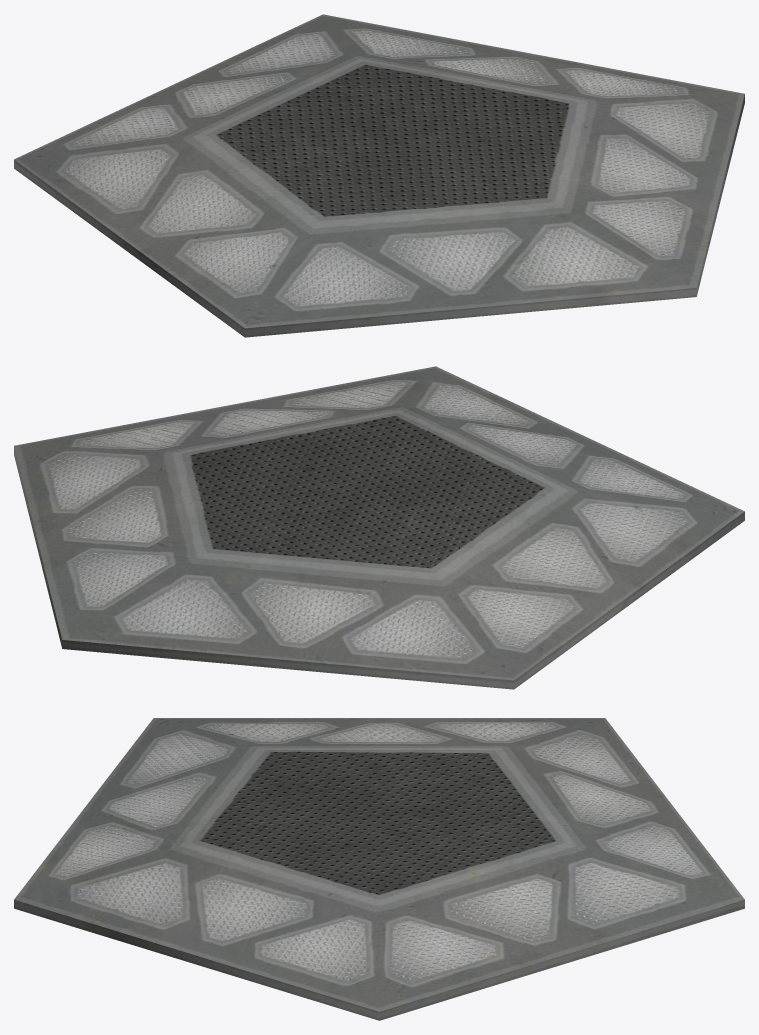
File: Rocket launch pad asset.FBX
3 views of the same model, one above another, from view 1: azimuth 30°, elevation 25°; view 2: azimuth 150°, elevation 25°; view 3: azimuth 270°, elevation 25° (orthographic). The views are drawn at different scales.
Parts seen in each view (by area): view 1: Lauch pad; view 2: Lauch pad; view 3: Lauch pad.
Boxes of the visible parts, left/top/right/bottom form: Lauch pad: left=14, top=14, right=744, bottom=337; Lauch pad: left=14, top=366, right=744, bottom=689; Lauch pad: left=14, top=718, right=744, bottom=1020.
Size of the model in its own units: 266 by 17.62 by 280.
Materials: 1 (1 with a texture image).
